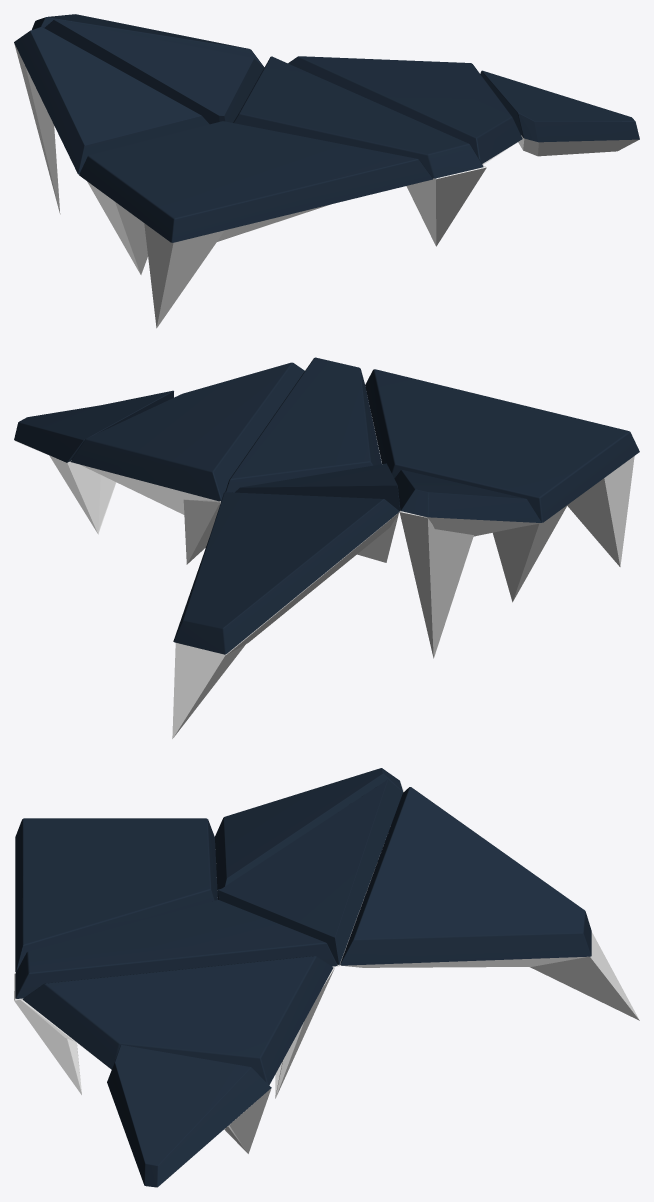
The model's file is canap_LOQ1.fbx.
The picture shows the model from 3 angles, top to bottom: view 1: azimuth 30°, elevation 25°; view 2: azimuth 150°, elevation 25°; view 3: azimuth 270°, elevation 25°; orthographic projection. The views are drawn at different scales.
Visible parts, largest first — view 1: canap_LOQ1; view 2: canap_LOQ1; view 3: canap_LOQ1.
Part boxes in pixels (box(x1,y1,x2,y2)): canap_LOQ1: box(14, 14, 639, 328); canap_LOQ1: box(14, 357, 639, 738); canap_LOQ1: box(14, 768, 639, 1187).
Size of the model in its own units: 3.28 by 1.07 by 3.14.
